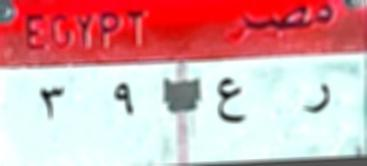3: (30, 79, 76, 132)
9: (102, 82, 146, 122)
ain: (212, 72, 256, 131)
raa: (299, 79, 338, 122)
